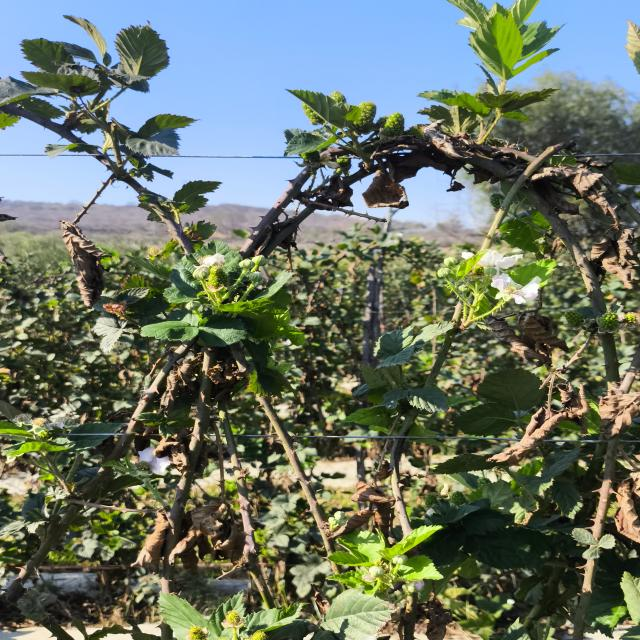boton: (193, 265, 210, 280), (247, 271, 264, 284), (185, 299, 202, 310), (239, 259, 254, 271), (253, 255, 267, 266), (444, 257, 458, 267), (437, 268, 451, 278)
flor: (491, 274, 541, 304), (477, 249, 523, 271), (199, 253, 225, 268)
